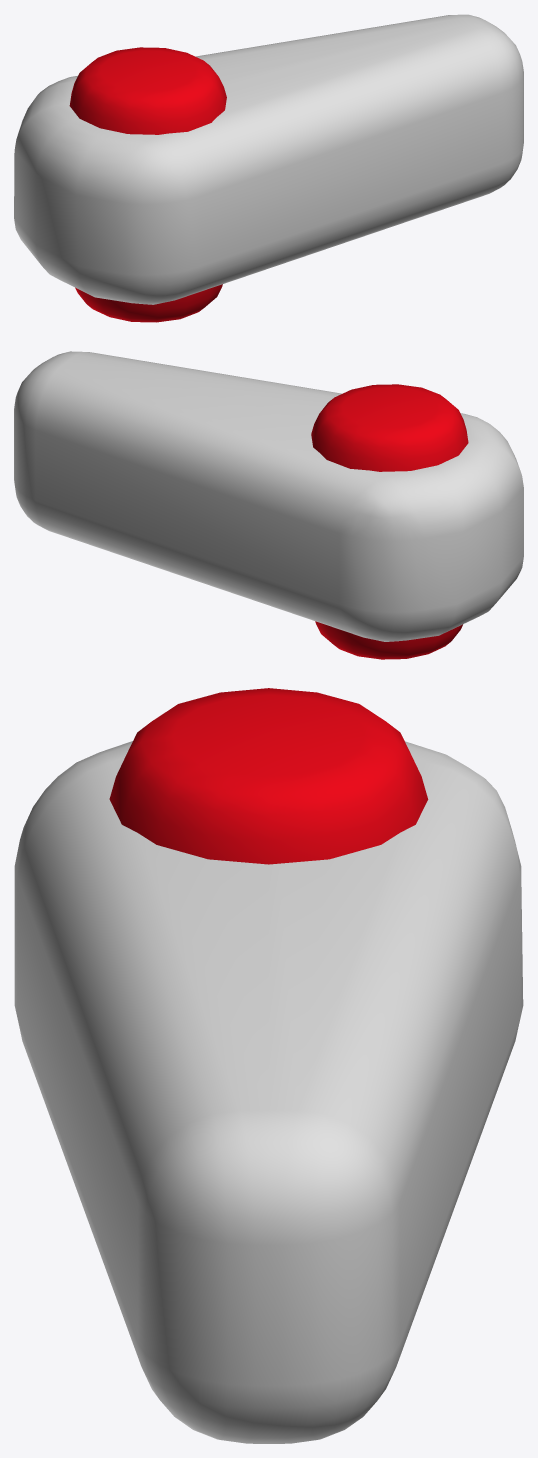
File: Revolving_Obstacles.fbx
The picture shows the model from 3 angles, top to bottom: view 1: azimuth 30°, elevation 25°; view 2: azimuth 150°, elevation 25°; view 3: azimuth 270°, elevation 25°; orthographic projection. The views are drawn at different scales.
Visible parts, largest first — view 1: Cube.002, Cylinder.006; view 2: Cube.002, Cylinder.006; view 3: Cube.002, Cylinder.006.
Part boxes in pixels (x1,y1,x2,y2): Cube.002: (14,14,523,304); Cylinder.006: (69,47,226,322); Cube.002: (14,351,523,641); Cylinder.006: (311,384,468,659); Cube.002: (14,741,523,1443); Cylinder.006: (109,688,428,864).
Size of the model in its own units: 412 by 191 by 190.
